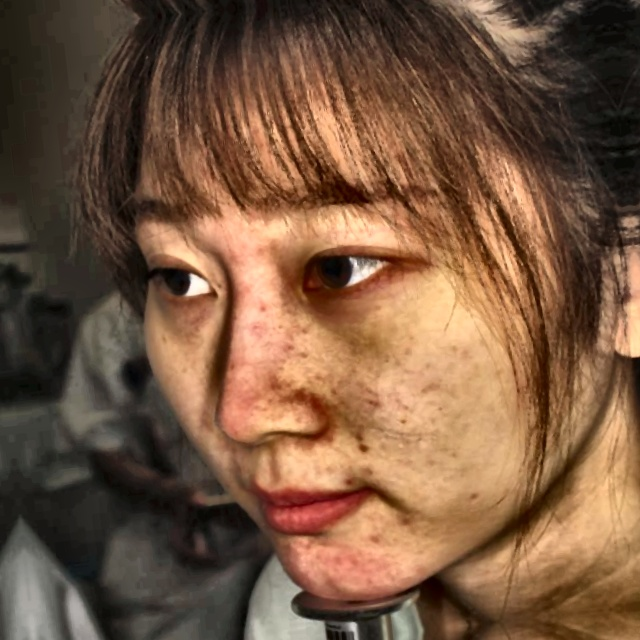comedone: (345, 430, 376, 459)
